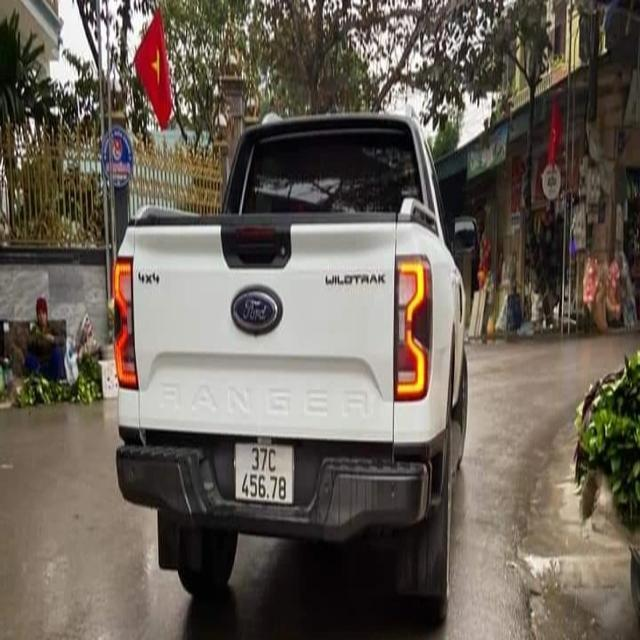car: (100, 106, 491, 627)
plate: (228, 438, 300, 509)
